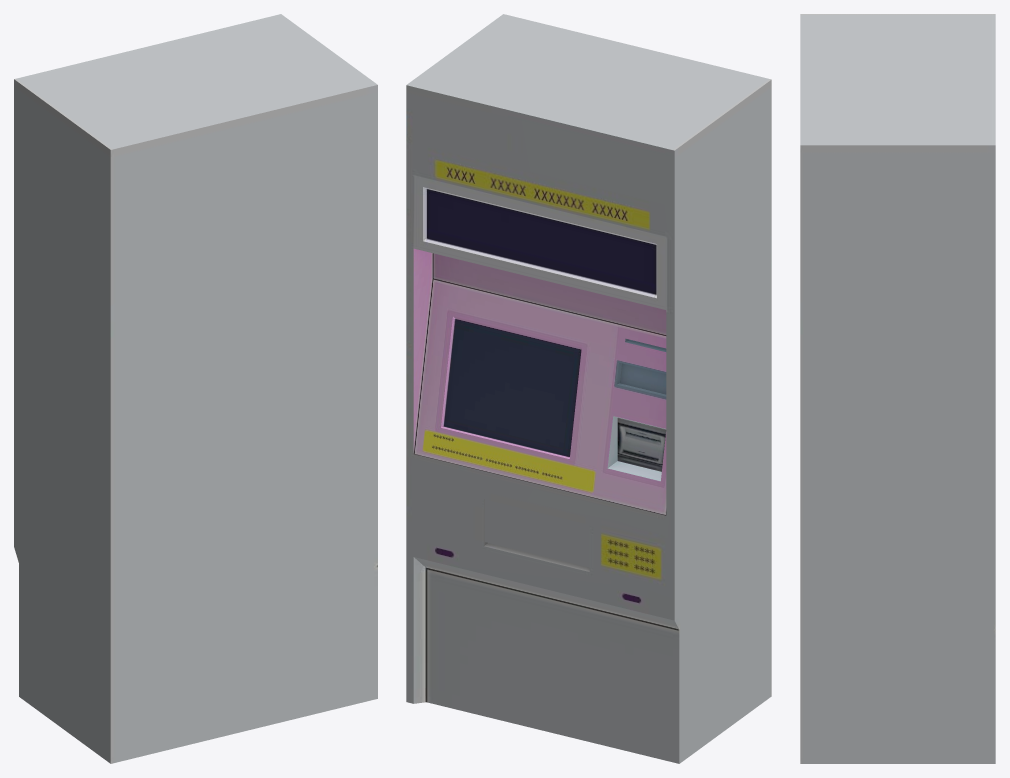
The picture shows the model from 3 angles, left to right: view 1: azimuth 30°, elevation 25°; view 2: azimuth 150°, elevation 25°; view 3: azimuth 270°, elevation 25°; orthographic projection.
Parts seen in each view (by area): view 1: 自助售票机; view 2: 自助售票机; view 3: 自助售票机.
Boxes of the visible parts, x1,y1,x2,y2 form: 自助售票机: (14, 14, 377, 763); 自助售票机: (406, 14, 771, 763); 自助售票机: (800, 14, 995, 763).
Size of the model in its own units: 0.9083 by 1.99 by 0.57.
Materials: 1 (1 with a texture image).
